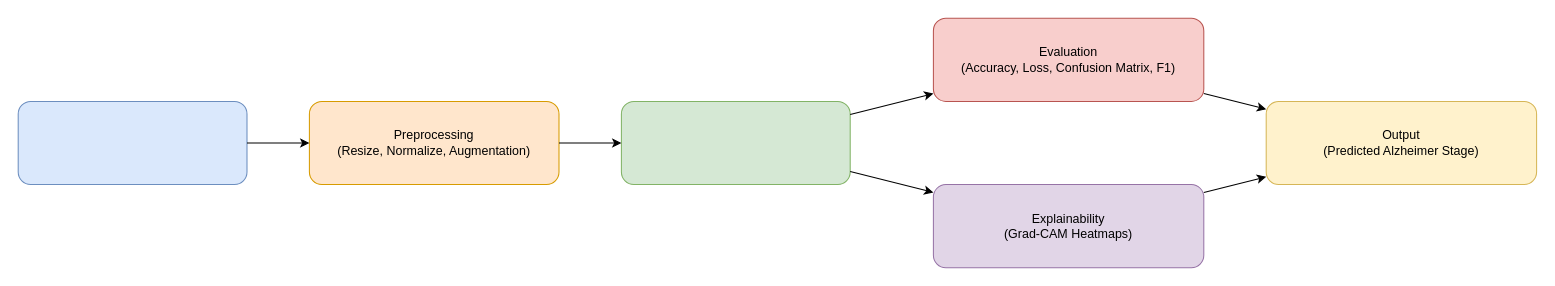
Some shapes in this 1555 by 286 pixel diagram are drawn without their labels. The centre of each missing label's shape, as x and y in pixels:
Data Layer (MRI Dataset: Train/Val/Test): point 132,142
Model Layer (CNN / Transfer Learning): point 735,142
